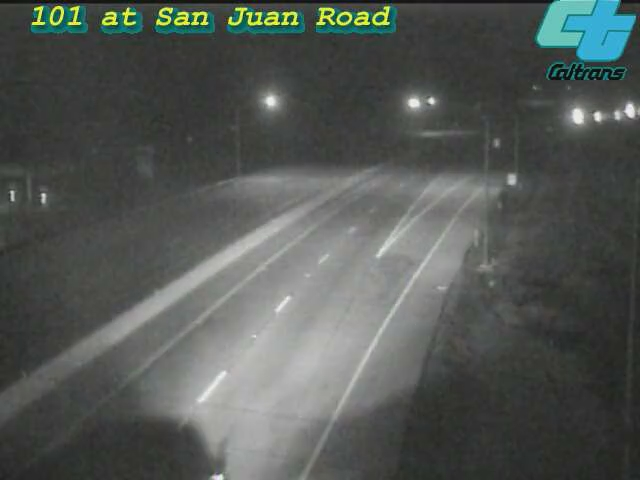vehicle: (79, 401, 189, 480), (573, 92, 623, 142), (552, 90, 602, 140), (593, 90, 640, 140), (604, 86, 640, 136)
